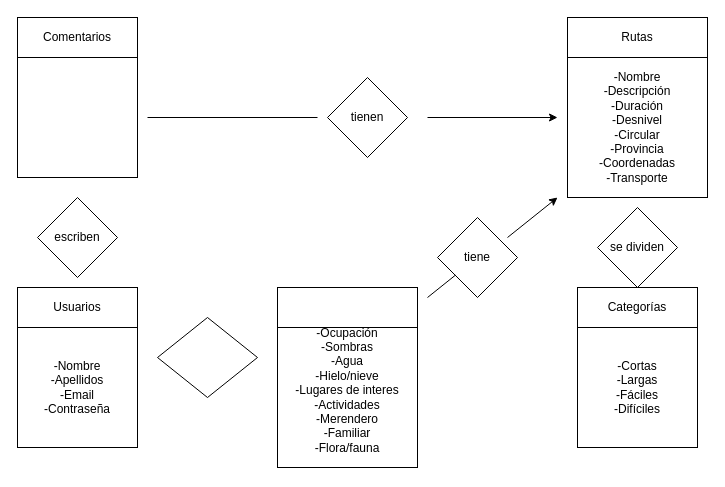
This 725x487 diagram has some shape labels left out. The box of each missing label's shape, as (x1, y1, x2, y2) in pixels:
-Título -Contenido -ID usuario -ID ruta: (16, 56, 138, 178)
Etiquetas: (276, 286, 418, 328)
gestionan: (156, 316, 258, 398)
